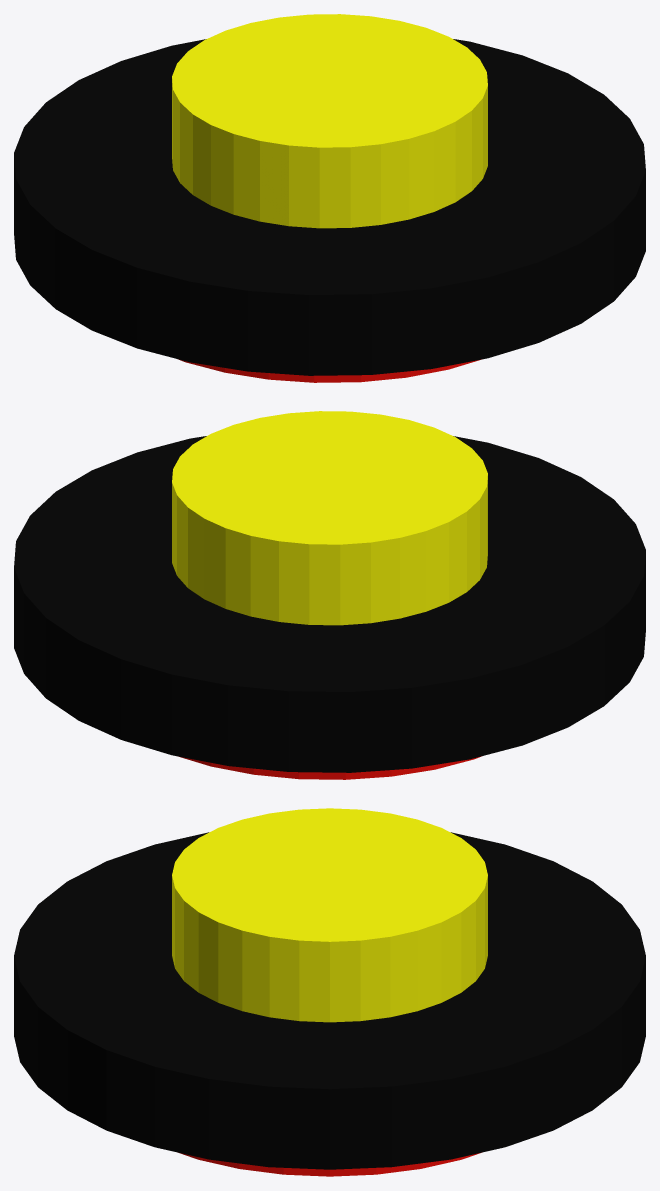
File: ufo.glb
3 views of the same model, one above another, from view 1: azimuth 30°, elevation 25°; view 2: azimuth 150°, elevation 25°; view 3: azimuth 270°, elevation 25° (orthographic).
Parts seen in each view (by area): view 1: Cylinder.001; view 2: Cylinder.001; view 3: Cylinder.001.
Part boxes in pixels (x1,y1,x2,y2): Cylinder.001: [14, 14, 645, 382]; Cylinder.001: [14, 411, 645, 779]; Cylinder.001: [14, 808, 645, 1176].
Bounding box in the file's own units: 5.33 × 1.88 × 5.33.
